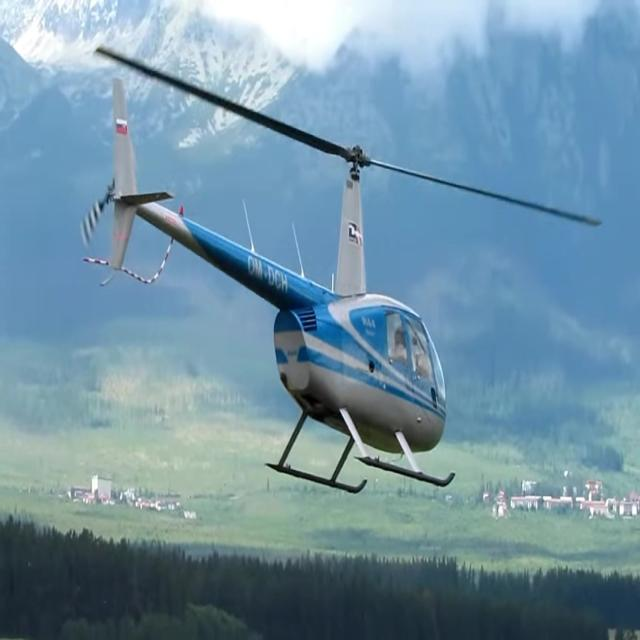CIV_HELO: (108, 74, 458, 500)
